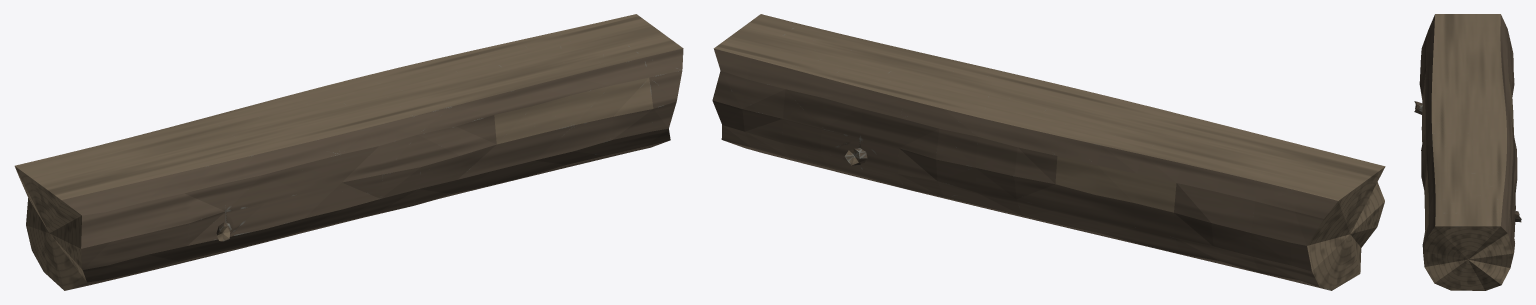
The model's file is river_log_crossing_side.glb.
3 renders of one model, left to right at view 1: azimuth 30°, elevation 25°; view 2: azimuth 150°, elevation 25°; view 3: azimuth 270°, elevation 25°, orthographic. The views are drawn at different scales.
Parts seen in each view (by area): view 1: LogCrossingSide; view 2: LogCrossingSide; view 3: LogCrossingSide.
Part boxes in pixels (box(x1,y1,x2,y2)): LogCrossingSide: box(14, 14, 683, 290); LogCrossingSide: box(712, 14, 1385, 290); LogCrossingSide: box(1414, 14, 1521, 290).
Size of what is drawn, in the model's own units: 3.5 by 0.55 by 0.75.
Materials: 1 (1 with a texture image).
